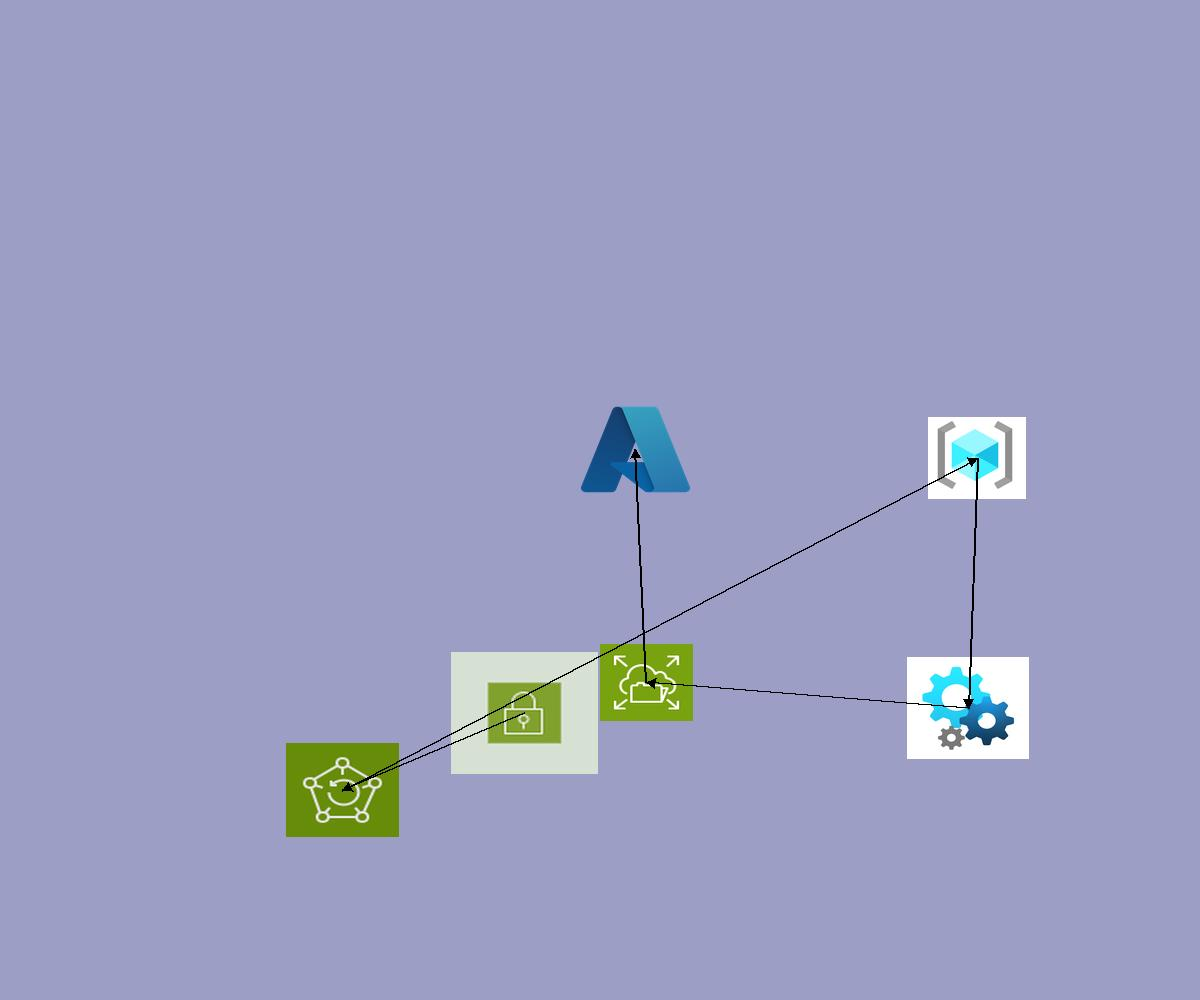AWS-Backup: (286, 743, 399, 837)
AWS-EFS: (600, 644, 693, 721)
AWS-Public-subnet: (451, 652, 598, 774)
Azure_api: (907, 657, 1029, 759)
Azure_resource_group: (928, 417, 1026, 499)
Azure_services: (576, 400, 695, 499)
